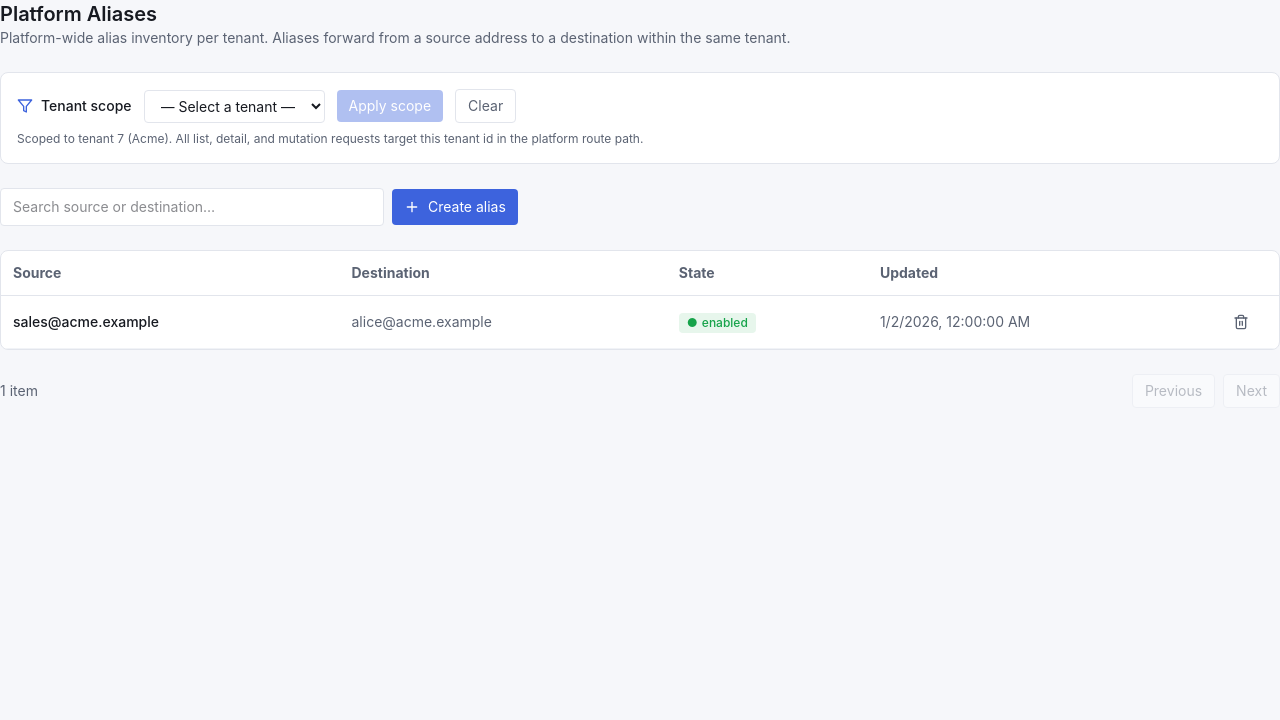
Test: features/platform/aliases › surfaces a typed duplicate-alias error without inventing success
The width and height of the screenshot is (1280, 720).
expect the text "sales@acme.example" is shown: met, box [1, 296, 340, 348]
Click the button "Create alias": (455, 207) [392, 189, 518, 225]
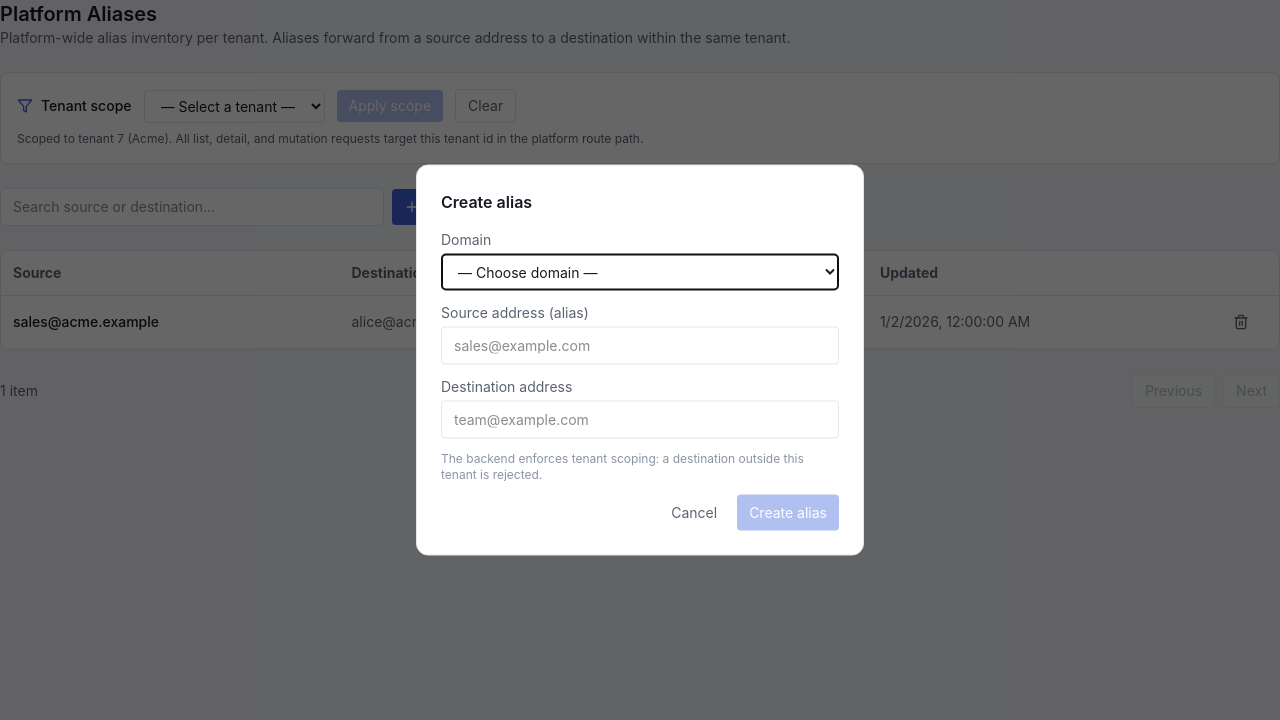
expect the dropdown labelled "Domain" is shown: met
Select "acme.example" in the dropdown labelled "Domain": (640, 272) [441, 254, 839, 290]
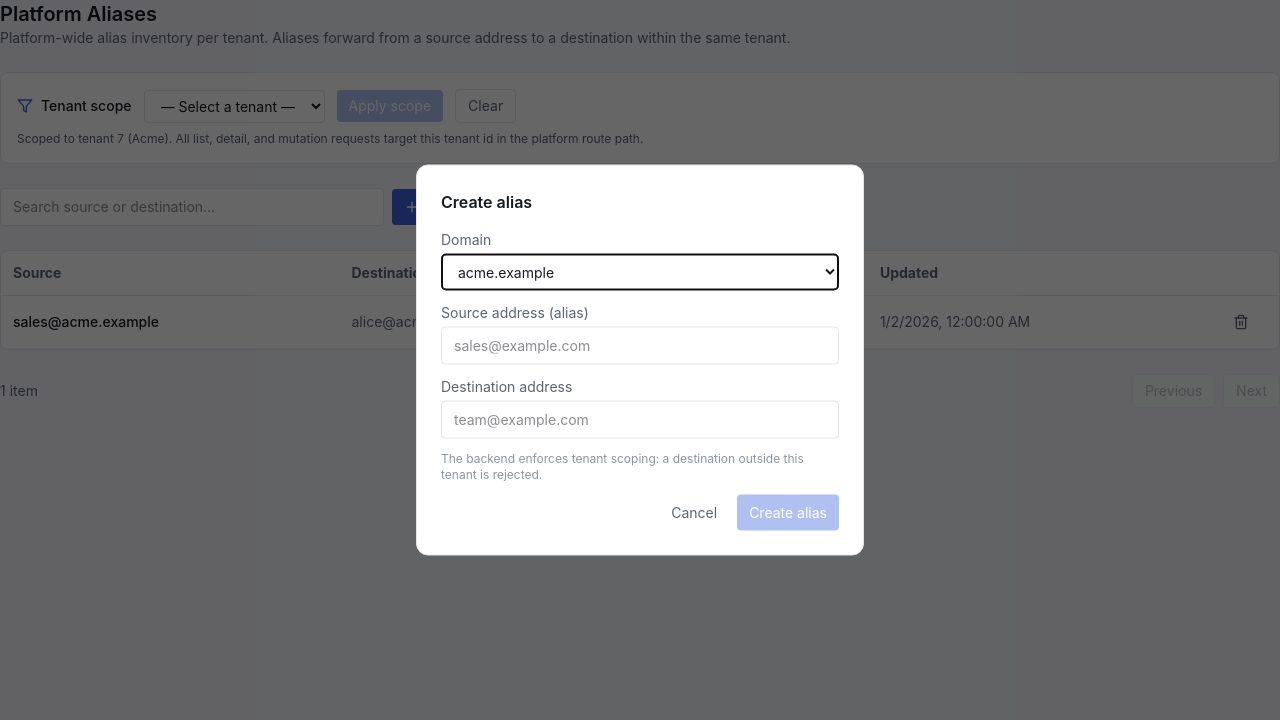
In the field labelled "Source address (alias)": (640, 346) [441, 326, 839, 364], type "dup@acme.example"
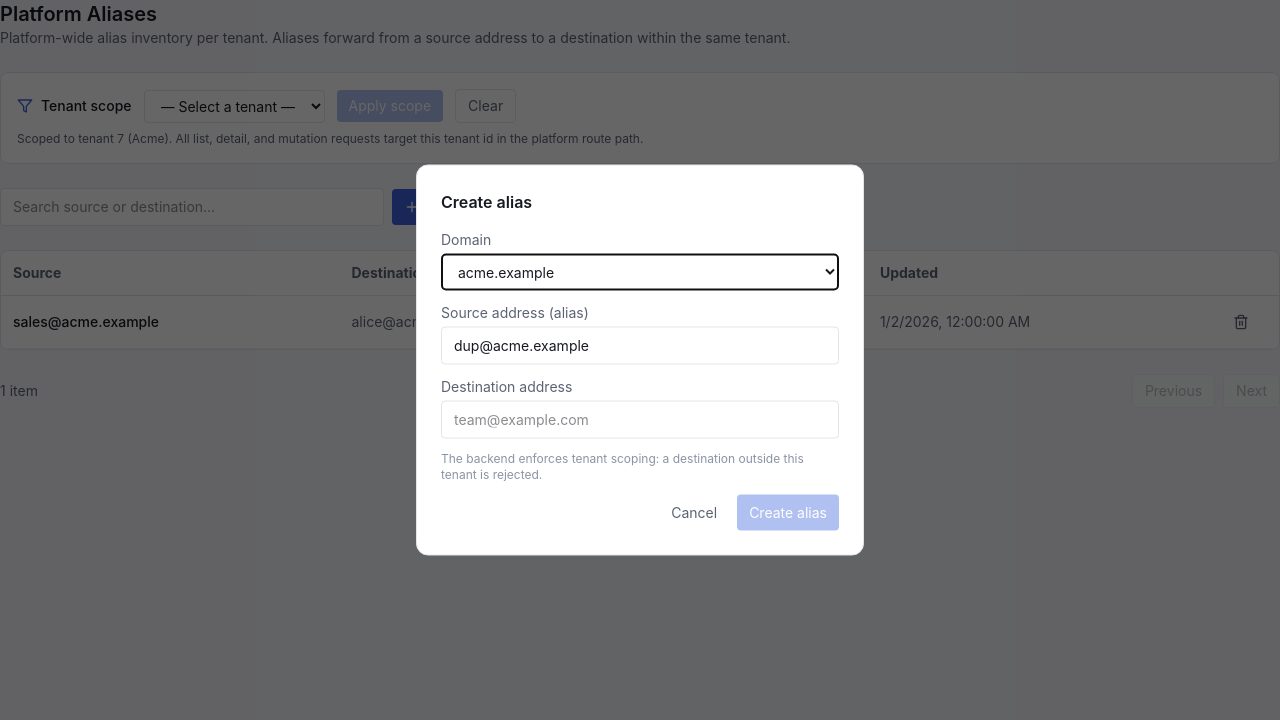
In the field labelled "Destination address": (640, 420) [441, 400, 839, 438], type "alice@acme.example"
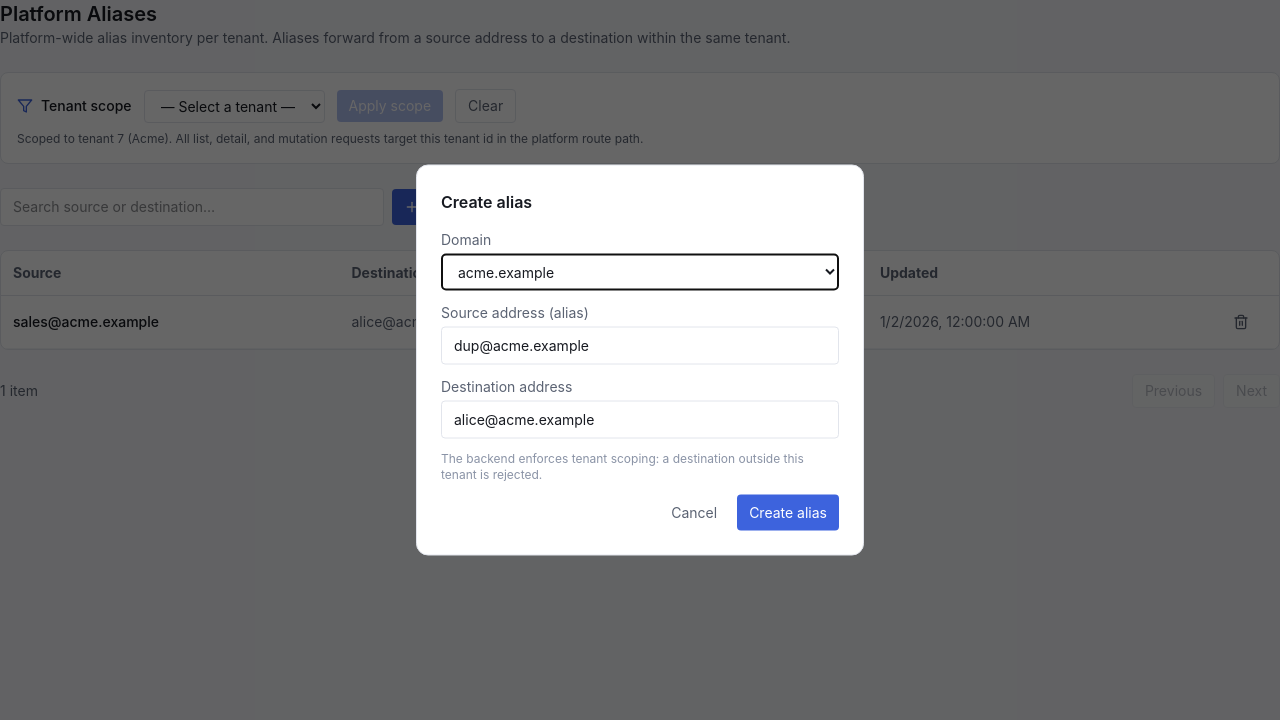
Click the button "Create alias": (788, 512) [737, 494, 839, 530]
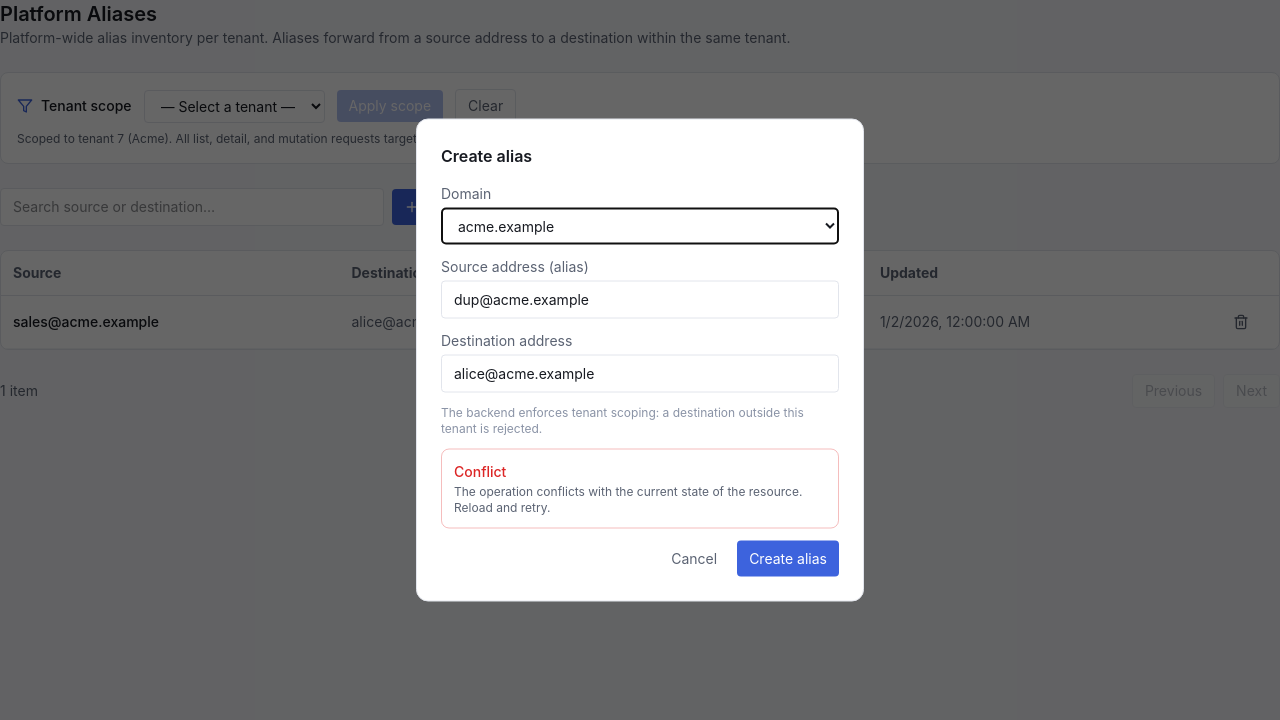
expect the button "Create alias" is shown: met, box [737, 540, 839, 576]
expect the message shows "Conflict": met, box [454, 462, 506, 480]
